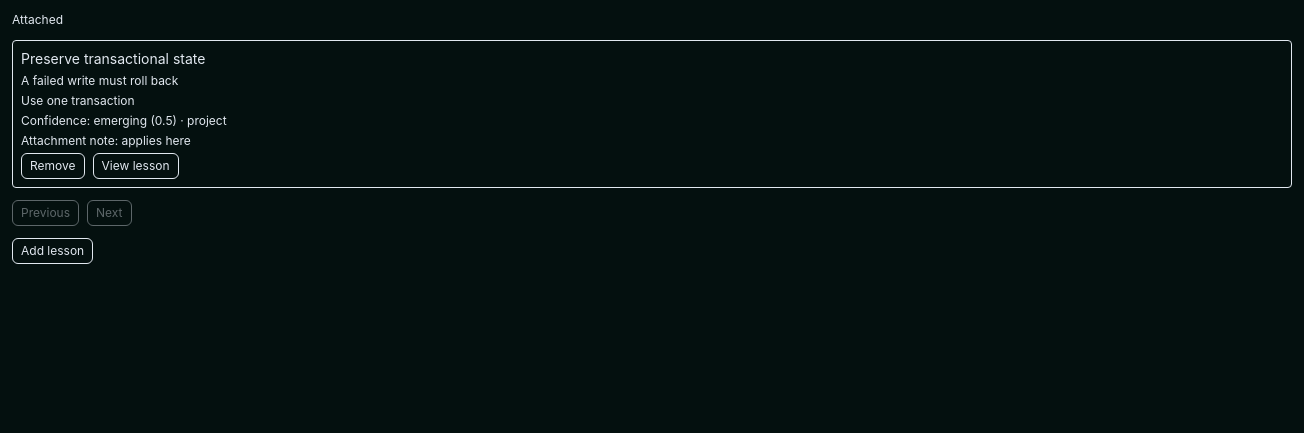
Test case: keeps attached advice and reports mutation failure
Expected: the text "Preserve transactional state" is shown, [21, 50, 206, 67]
Click the button "Remove" at (53, 166), box [21, 153, 84, 179]
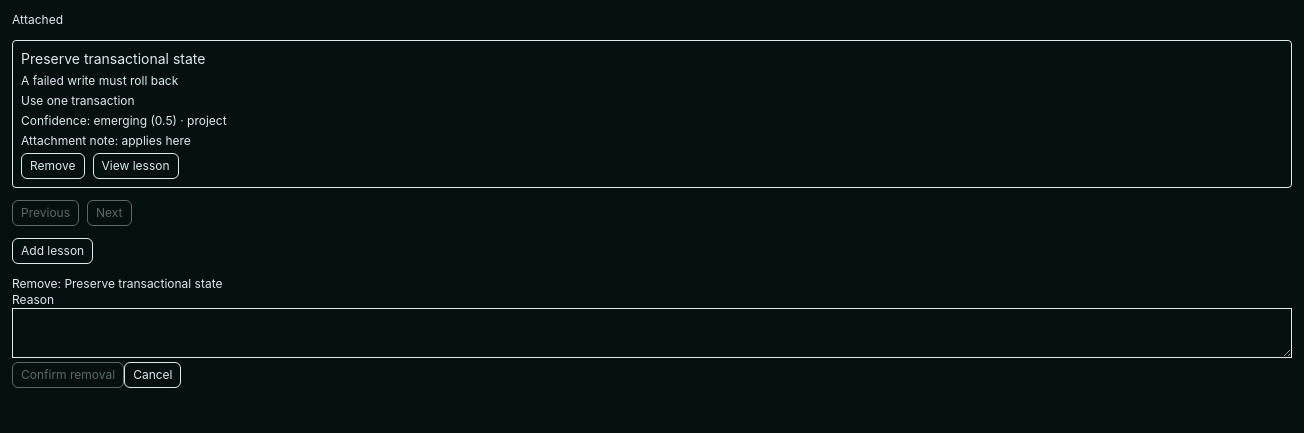
Type "Reason" into the text box at (652, 333), box [12, 308, 1292, 358]
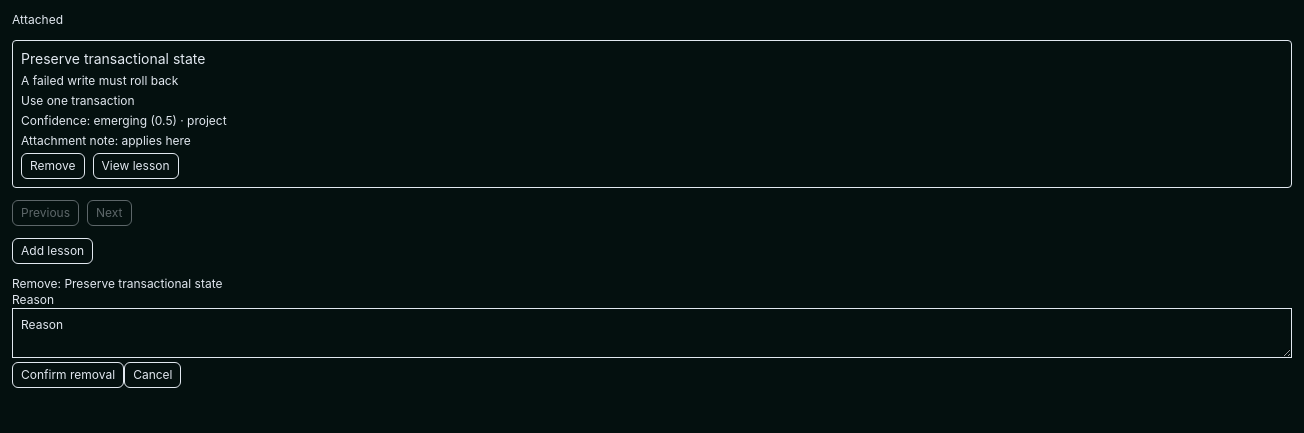
Click the button "Confirm removal" at (68, 375), box [12, 362, 124, 388]
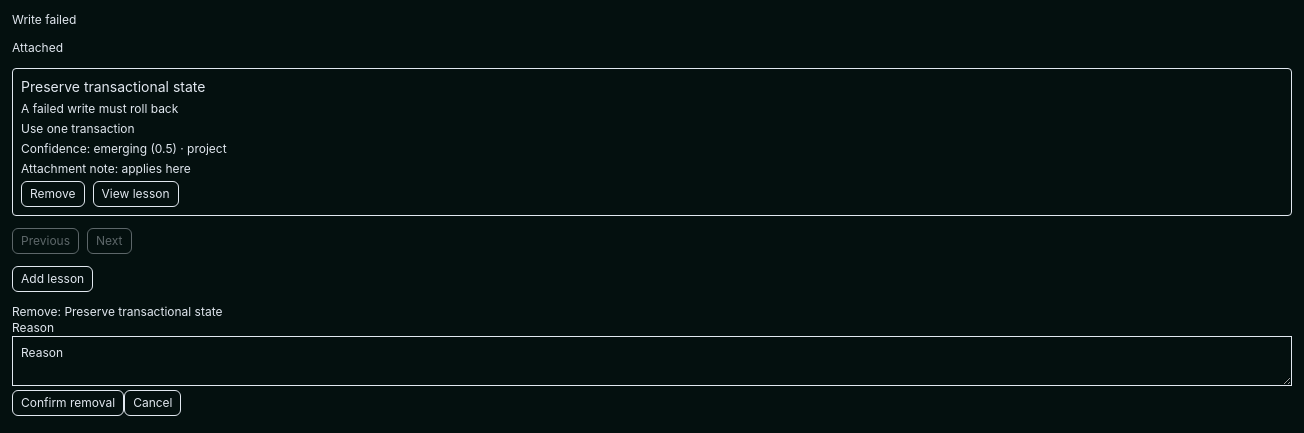
Expected: the message reads "Write failed", [12, 12, 76, 27]
